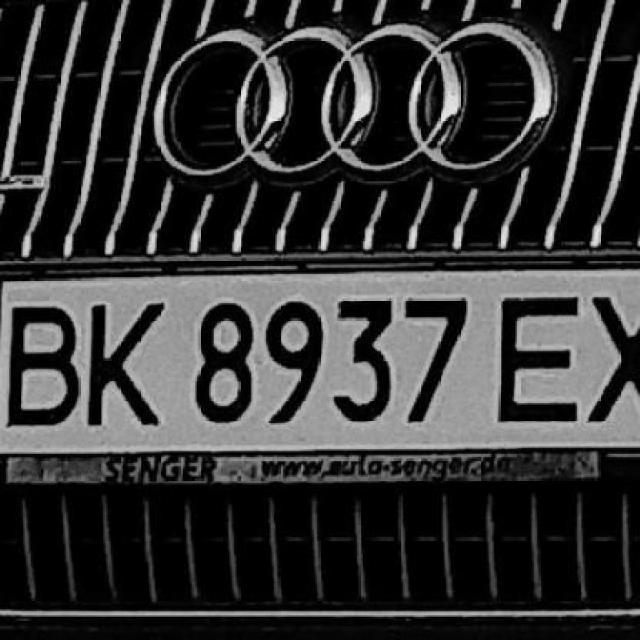licenseplate: (0, 255, 640, 480)
